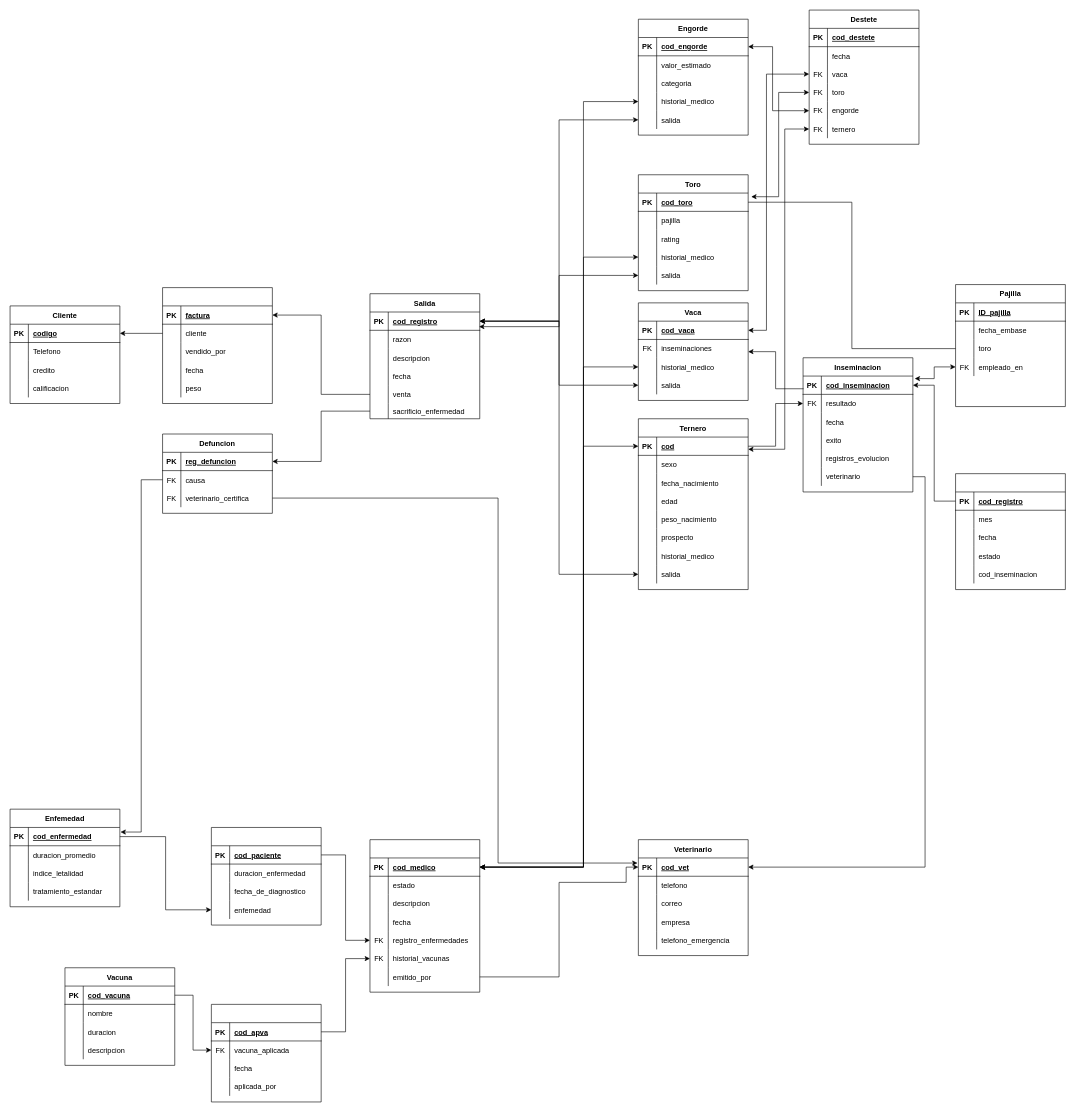
Image size: 1075x1112. Some labels were removed from this diagram. The box of each missing label's shape, as (x1, y1, x2, y2) in pixels:
Aplicacion_vacuna: (211, 1004, 321, 1102)
Estado_inseminacion: (955, 473, 1065, 590)
estuvo_enfermo: (211, 827, 321, 925)
Registro_venta: (162, 287, 272, 404)
Regristro_medico: (369, 839, 480, 992)
